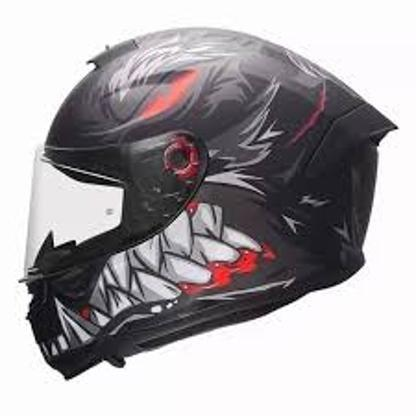not trash: (20, 28, 400, 379)
